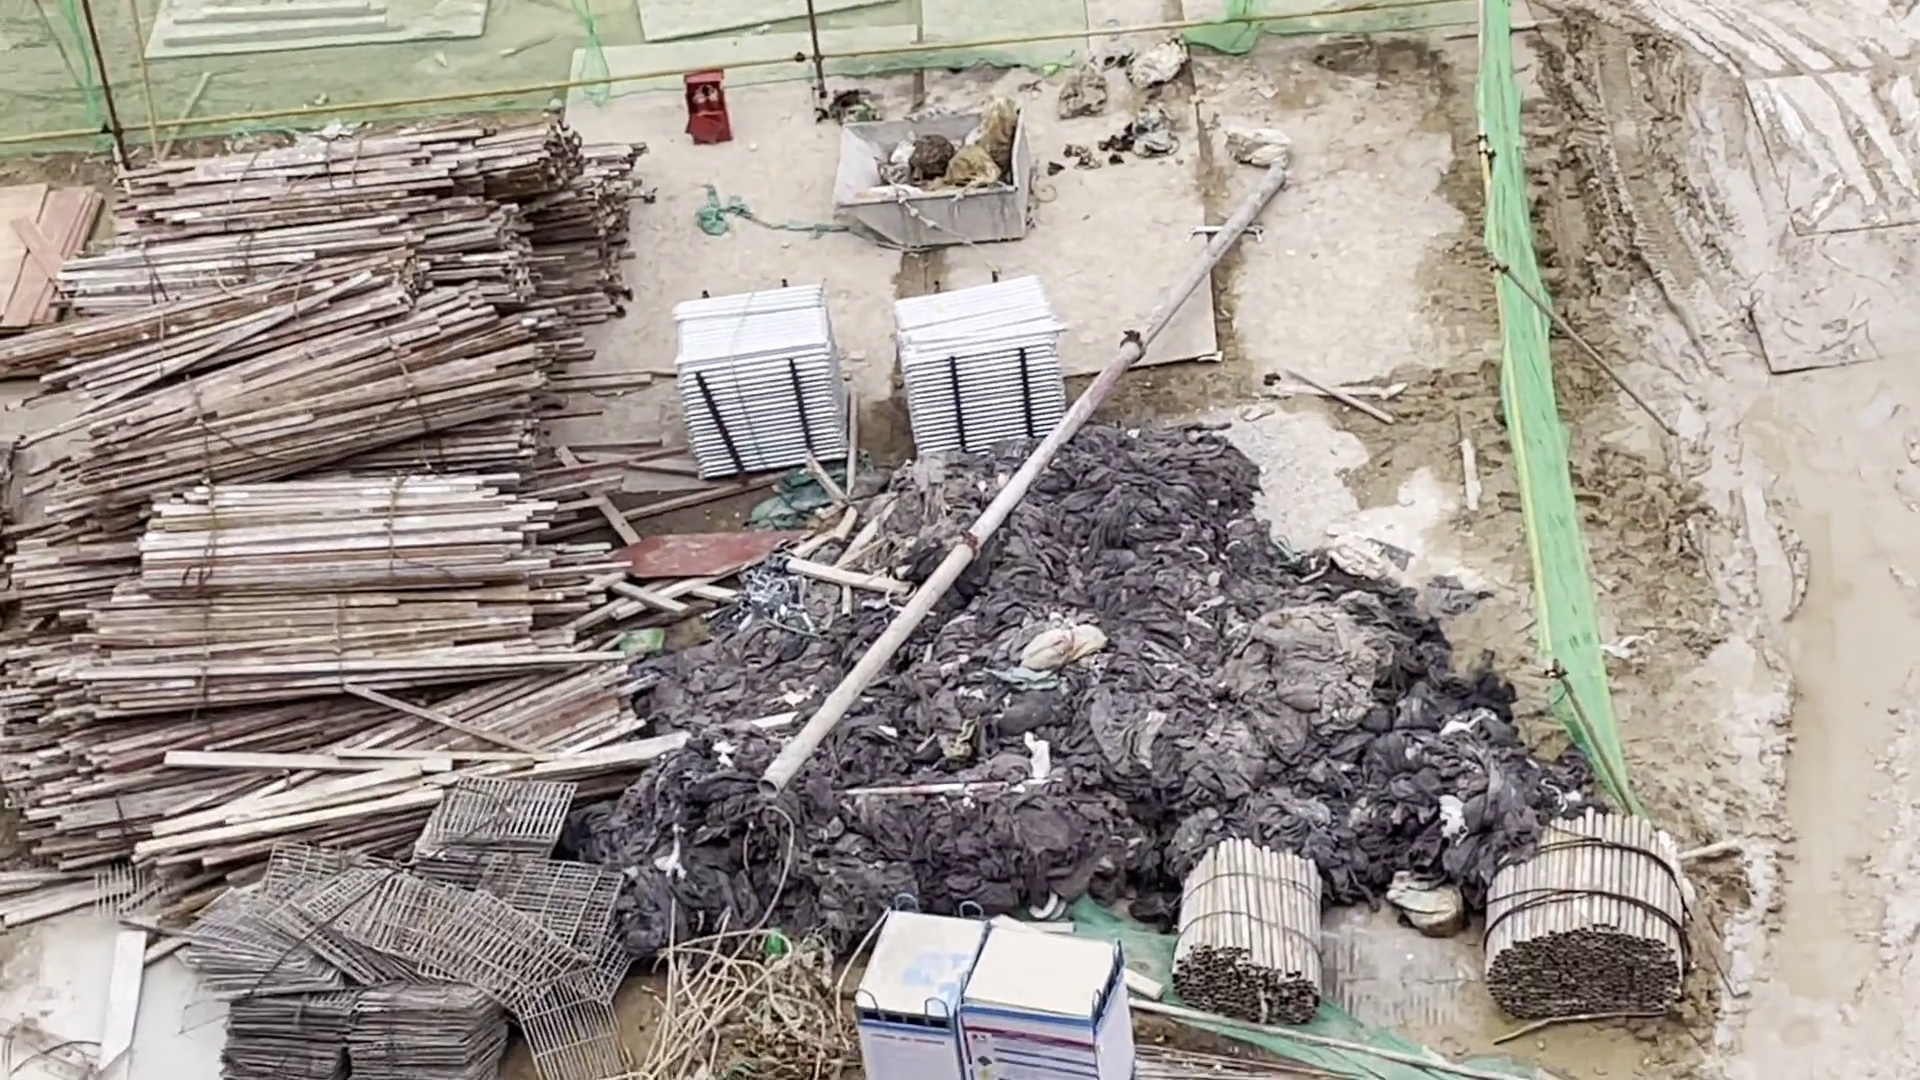hopper: (827, 103, 1034, 252)
scaffold: (674, 287, 855, 477), (893, 276, 1064, 454)
wood: (3, 115, 621, 885)
